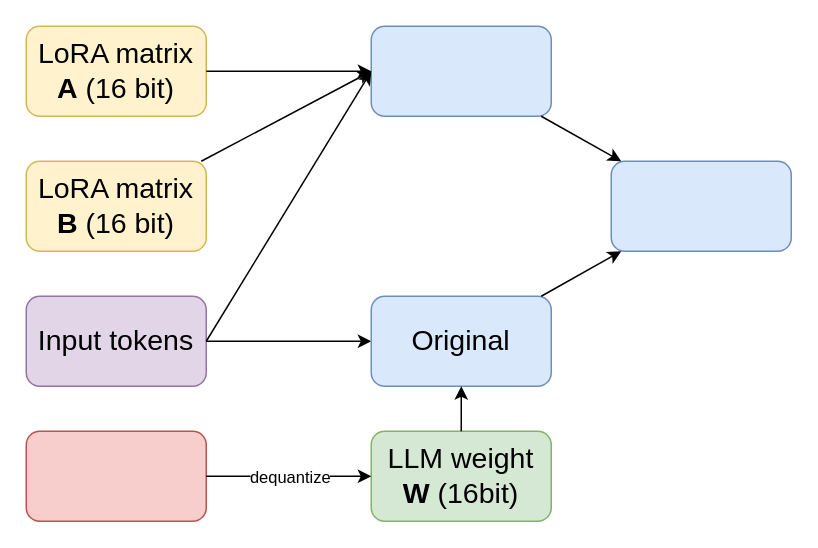
This 818x548 diagram has some shape labels left out. Here are the shapes that lost their labels. From the top down, the centre of each, then its label:
At [460,70]: "Adaptation".
At [700,205]: "Output vector h".
At [115,475]: "LLM weight W (4bit)".
